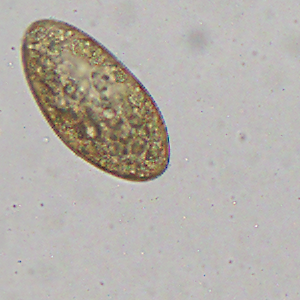Fasciola_hepatica_egg: (20, 17, 172, 183)
